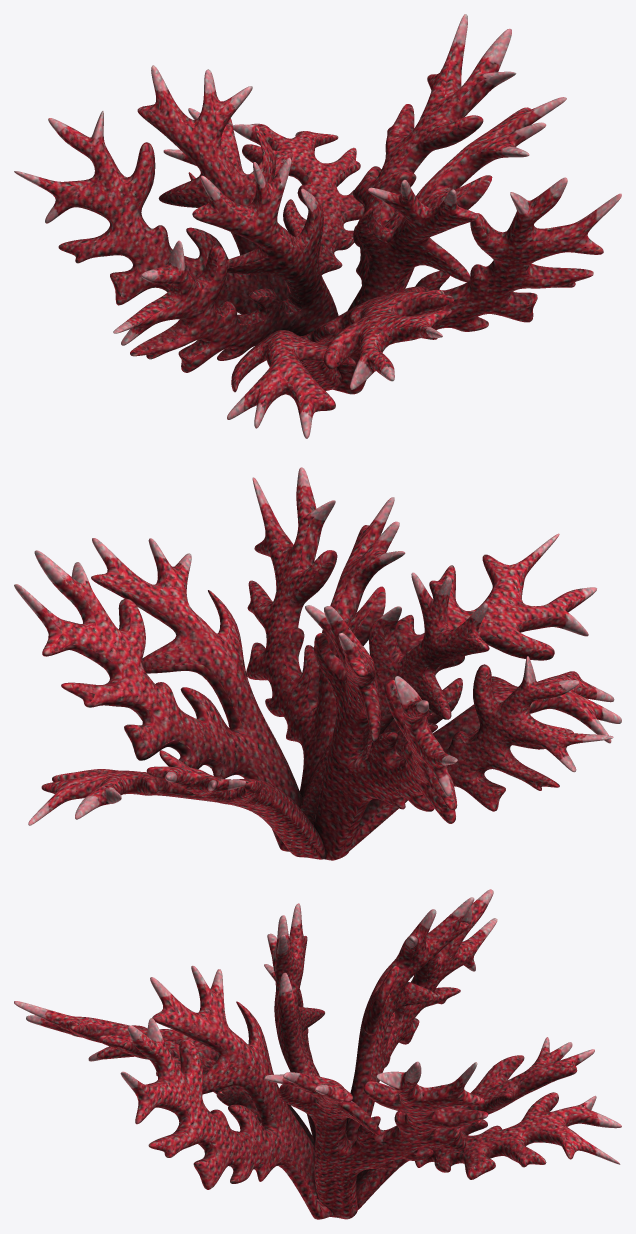
File: coral_1.fbx
The picture shows the model from 3 angles, top to bottom: view 1: azimuth 30°, elevation 25°; view 2: azimuth 150°, elevation 25°; view 3: azimuth 270°, elevation 25°; orthographic projection. The views are drawn at different scales.
Visible parts, largest first — view 1: 10010_Coral_v1_L3; view 2: 10010_Coral_v1_L3; view 3: 10010_Coral_v1_L3.
Boxes of the visible parts, x1=… form: 10010_Coral_v1_L3: x1=14, y1=14, x2=621, y2=438; 10010_Coral_v1_L3: x1=14, y1=467, x2=621, y2=860; 10010_Coral_v1_L3: x1=14, y1=889, x2=621, y2=1219.
Size of the model in its own units: 423 by 250 by 506.
